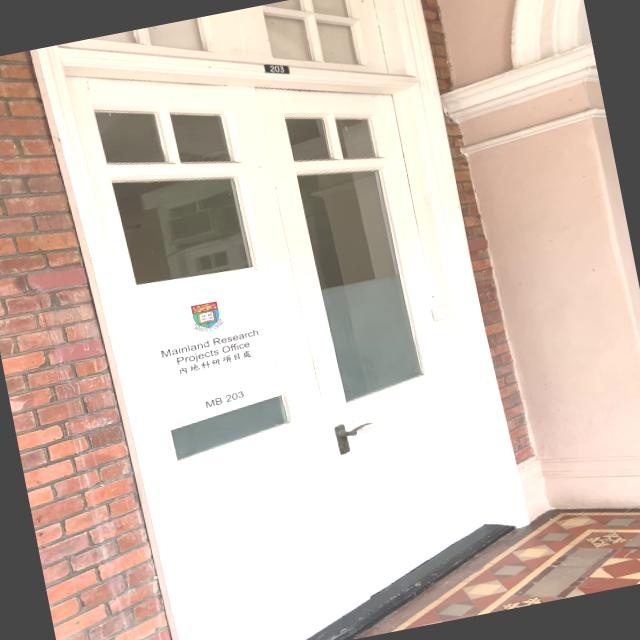room203: (257, 56, 297, 82)
room203Window: (200, 382, 252, 414)
